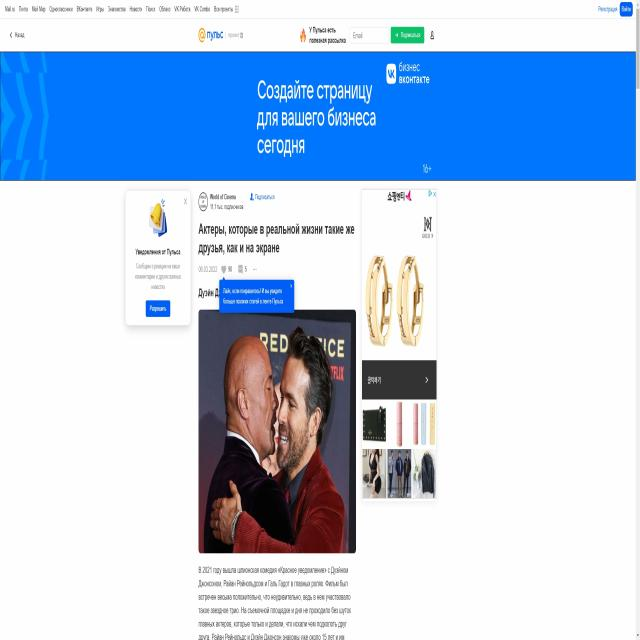menu-bar: (346, 22, 439, 46)
search: (348, 26, 424, 44)
tab-bar: (2, 1, 244, 16)
